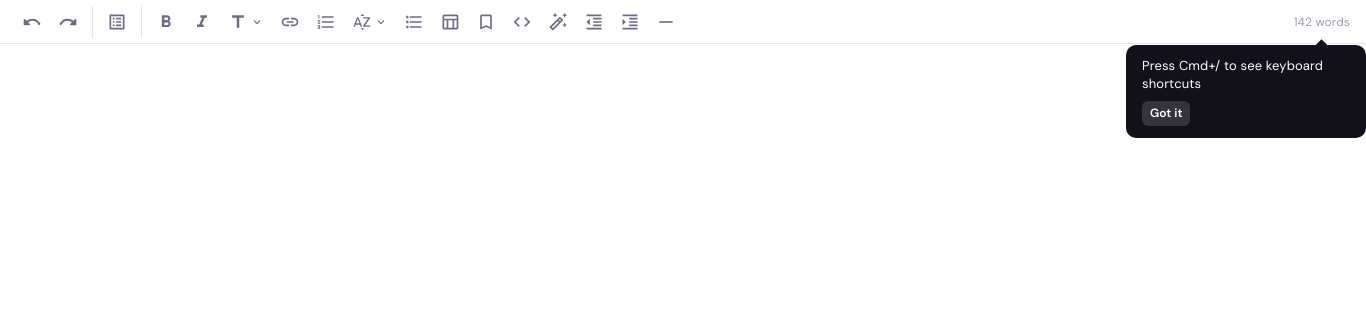
Scenario: EditorToolbar › Heading dropdown menu › opens heading dropdown menu when Heading button is clicked
Click the button named "Heading" at (246, 22), box [222,6,270,38]
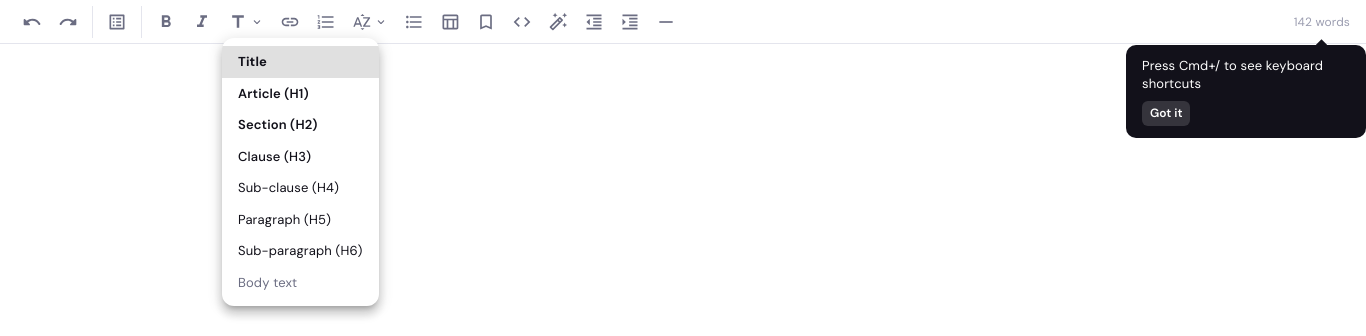
Result: the menu is shown at [222,38,378,306]
